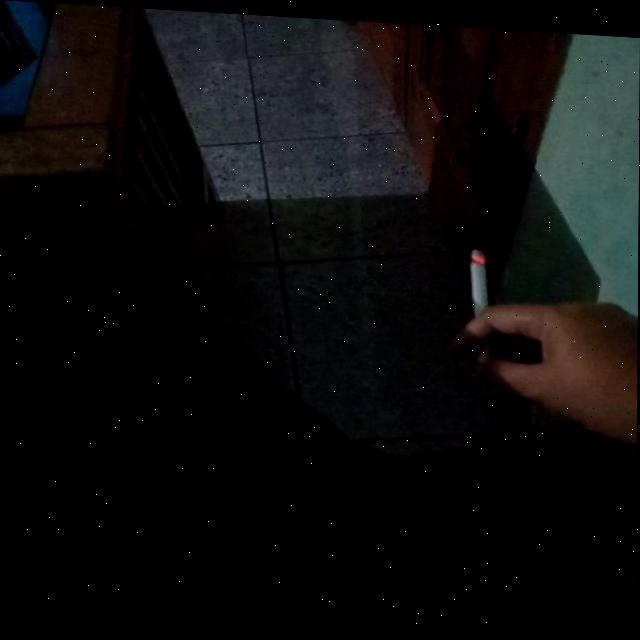cigarette: (474, 239, 489, 320)
